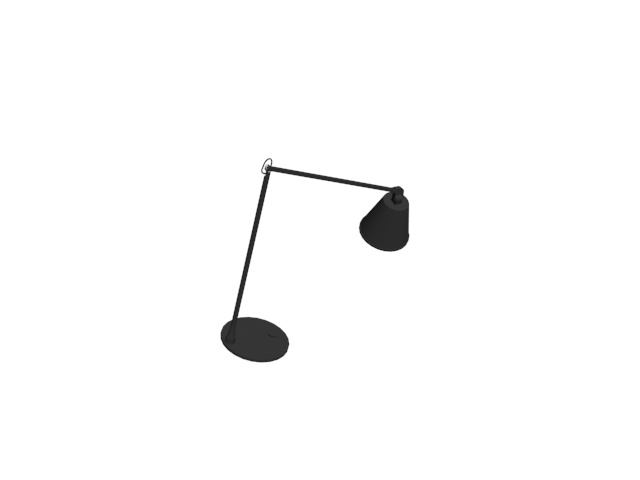desk_lamp: (217, 153, 416, 368)
